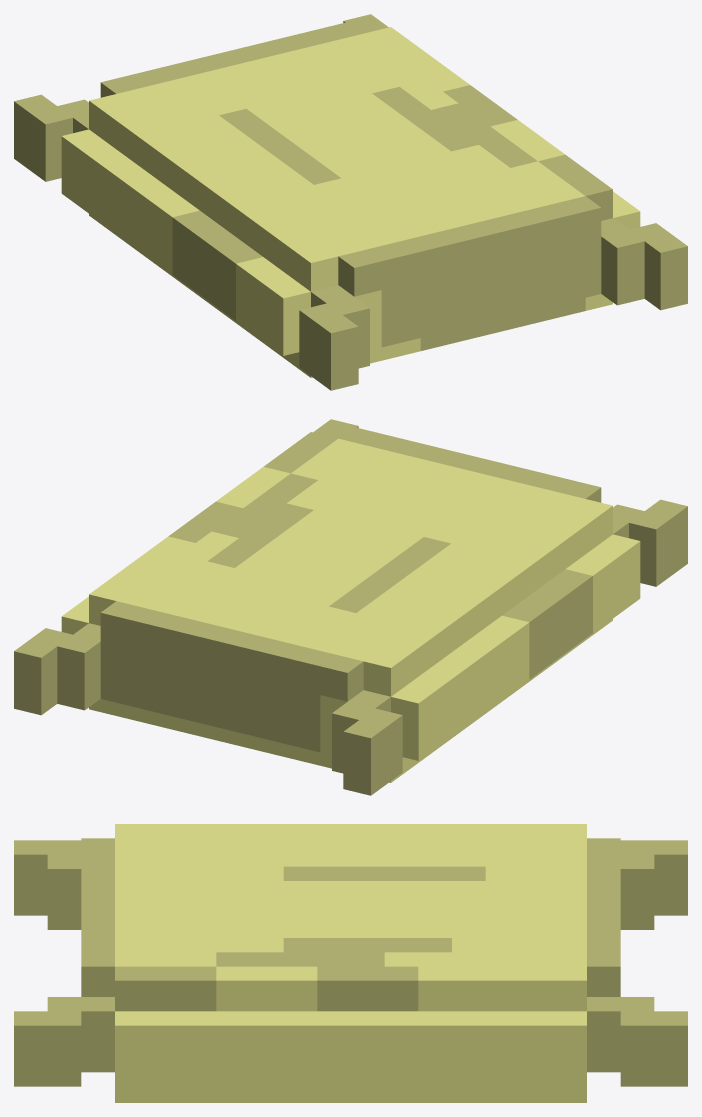
Rendered from Bunker - Free Sample-90-BagOfRice-15.obj.
3 views of the same model, one above another, from view 1: azimuth 30°, elevation 25°; view 2: azimuth 150°, elevation 25°; view 3: azimuth 270°, elevation 25° (orthographic). The views are drawn at different scales.
Visible parts, largest first — view 1: BagOfRice-15; view 2: BagOfRice-15; view 3: BagOfRice-15.
Boxes of the visible parts, x1=… form: BagOfRice-15: x1=14, y1=14, x2=687, y2=390; BagOfRice-15: x1=14, y1=419, x2=687, y2=795; BagOfRice-15: x1=14, y1=824, x2=687, y2=1102.
Size of the model in its own units: 0.26 by 0.08 by 0.4.
1 material, 1 textured.
